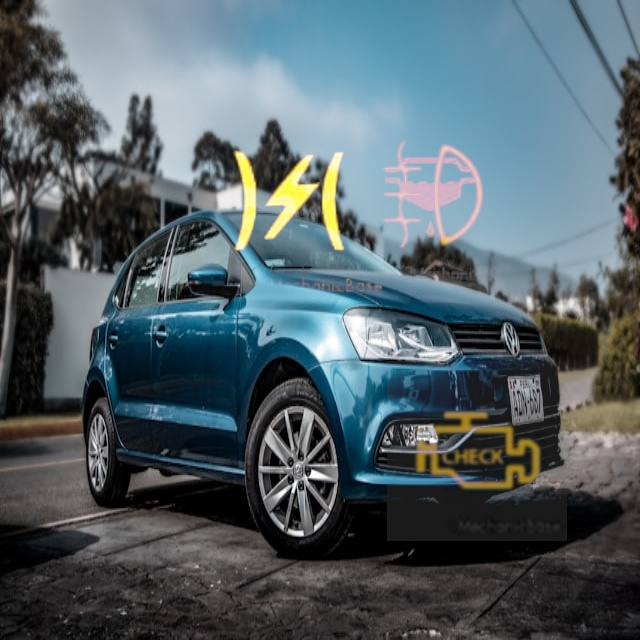symbol: (327, 88, 542, 303), (190, 102, 390, 302), (341, 108, 522, 289), (387, 361, 567, 541)
